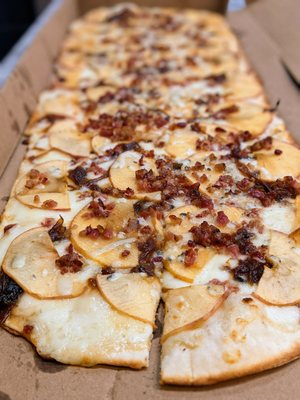sandwich: (5, 2, 300, 381)
